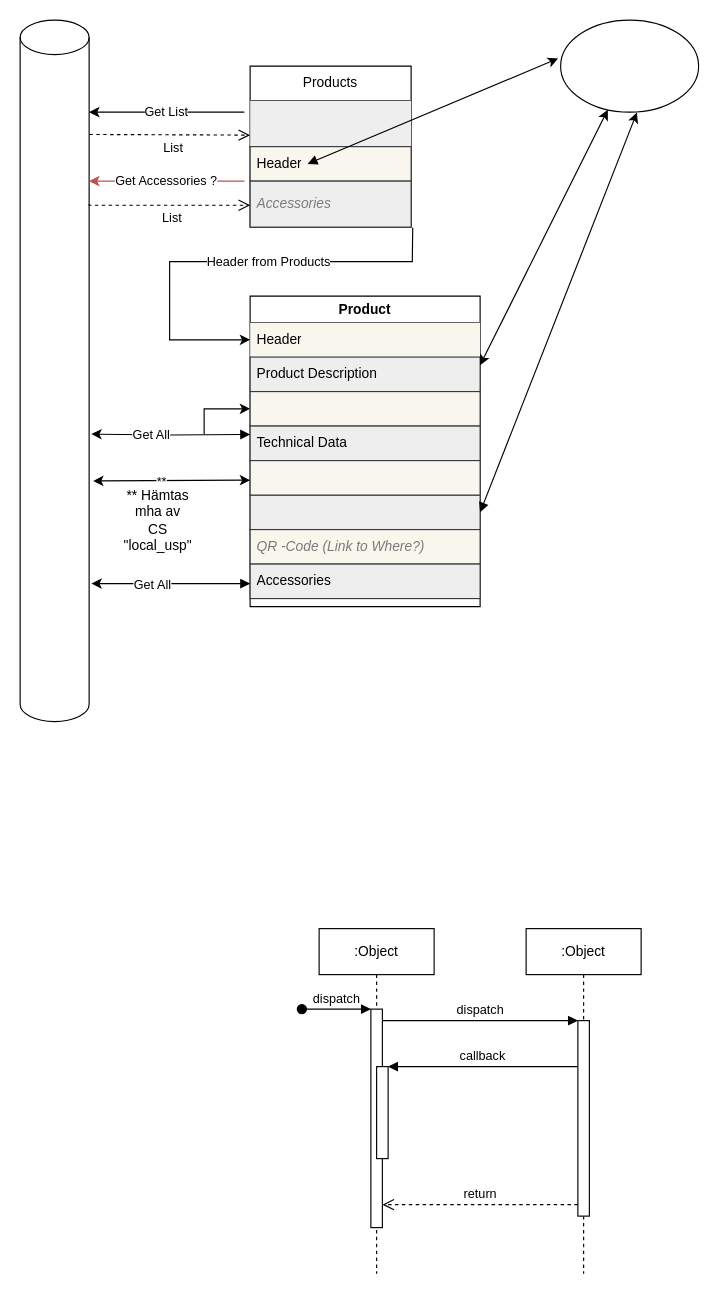
This 719x1294 diagram has some shape labels left out. The centre of each missing label's shape, as x and y in pixels:
Bullets ( nrOfBullets = 3): [364,477]
CenShare: [54,370]
Name: [364,512]
ProductList: [330,123]
SiteVision: [629,65]
Tech Points: [364,408]
